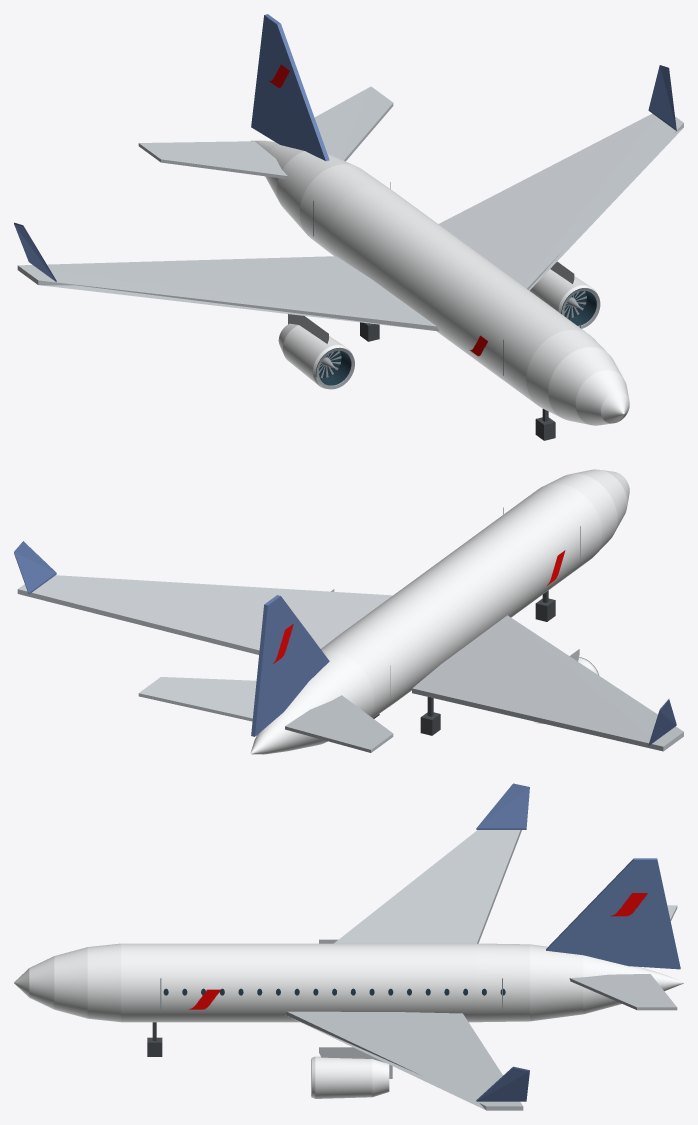
File: a319-AFR-v2.gltf
3 views of the same model, one above another, from view 1: azimuth 30°, elevation 25°; view 2: azimuth 150°, elevation 25°; view 3: azimuth 270°, elevation 25° (orthographic). The views are drawn at different scales.
Parts seen in each view (by area): view 1: object 1, Gear; view 2: object 1, Gear; view 3: object 1.
Part boxes in pixels (x1,y1,x2,y2): object 1: [14, 14, 683, 425]; Gear: [360, 322, 555, 440]; object 1: [14, 469, 683, 754]; Gear: [373, 590, 555, 735]; object 1: [14, 783, 683, 1110].
Bounding box in the file's own units: 34 × 10.93 × 34.
Materials: 7 (1 with a texture image).
